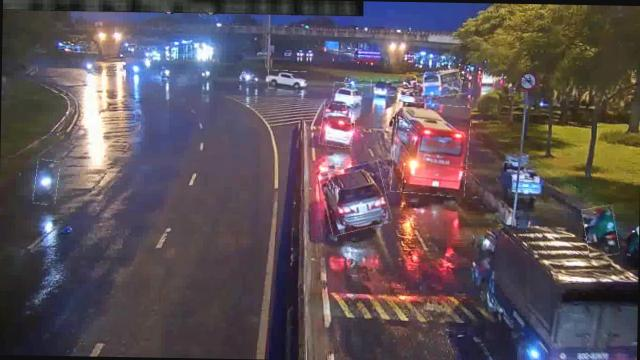Bike: (584, 205, 618, 257), (34, 158, 58, 204)
Bus: (392, 102, 469, 195), (416, 69, 461, 97)
Car: (321, 163, 390, 232), (320, 109, 354, 148), (269, 70, 307, 90), (332, 82, 362, 105), (325, 99, 352, 118), (399, 90, 426, 107), (371, 78, 396, 96)
